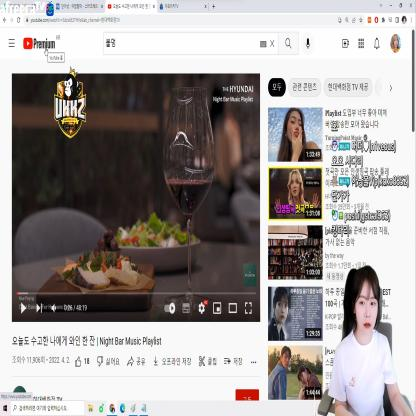streamer: (328, 265, 414, 416)
